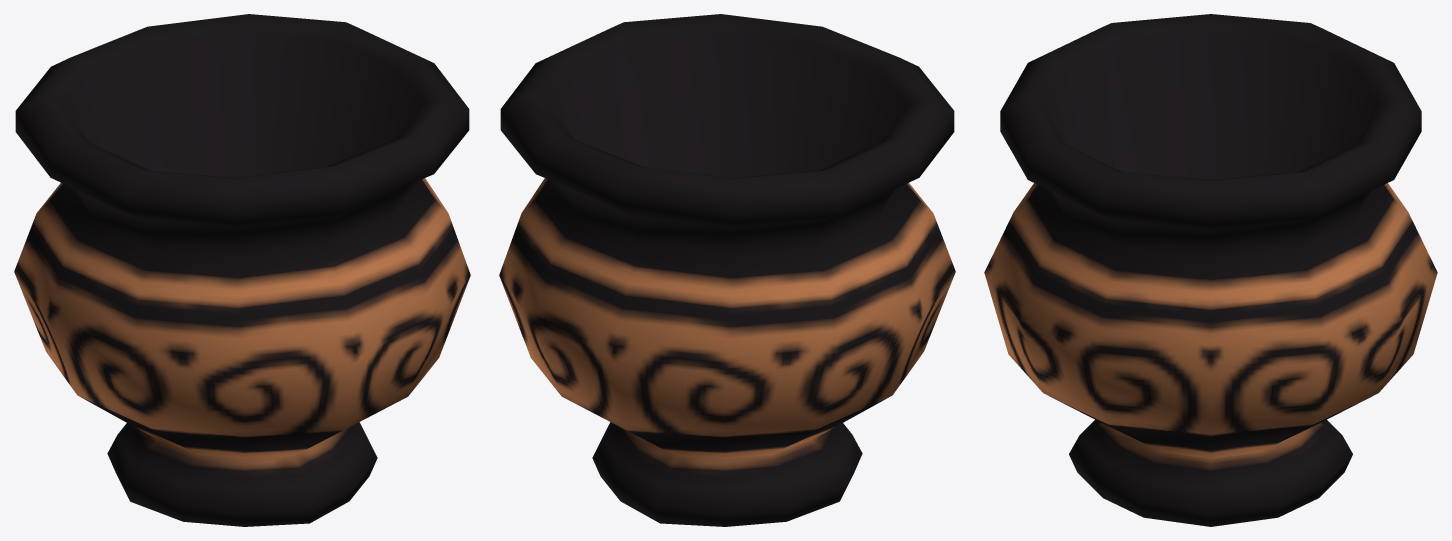
The model's file is prop_temple_jar1.fbx.
The picture shows the model from 3 angles, left to right: view 1: azimuth 30°, elevation 25°; view 2: azimuth 150°, elevation 25°; view 3: azimuth 270°, elevation 25°; orthographic projection.
Visible parts, largest first — view 1: jar1; view 2: jar1; view 3: jar1.
Part boxes in pixels (bbox=[...]): jar1: bbox=[14, 14, 470, 526]; jar1: bbox=[499, 14, 955, 526]; jar1: bbox=[984, 14, 1437, 526].
Size of the model in its own units: 0.6918 by 0.6439 by 0.7055.
1 material, 1 textured.
